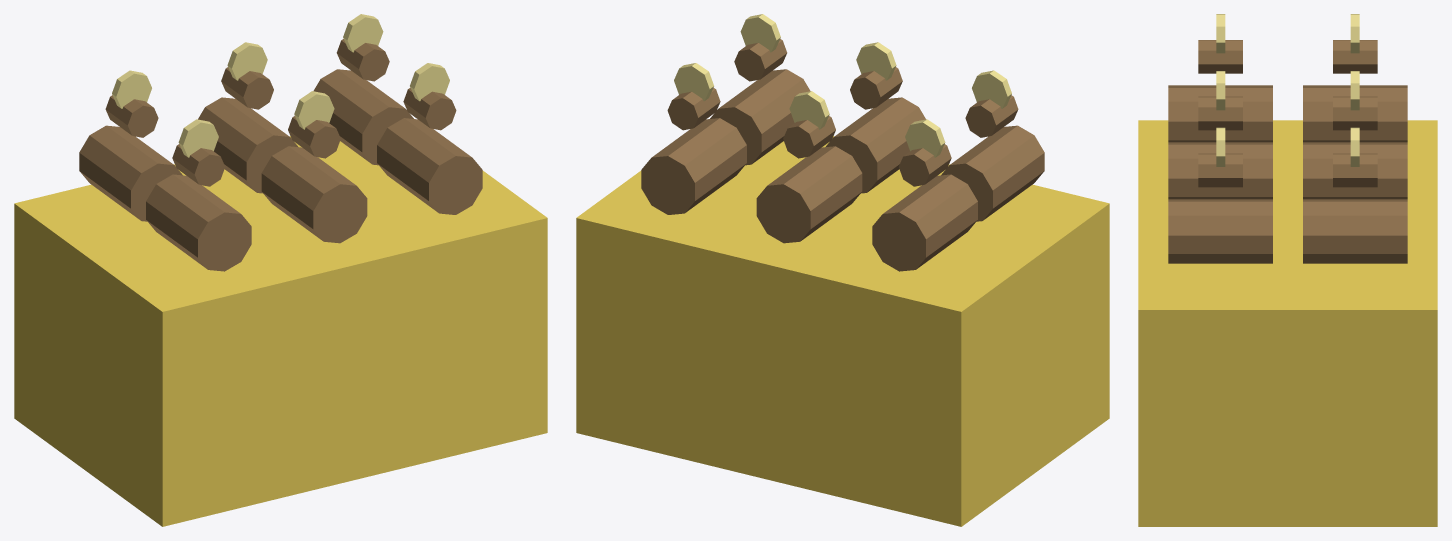
File: bac.glb
3 views of the same model, side by side, from view 1: azimuth 30°, elevation 25°; view 2: azimuth 150°, elevation 25°; view 3: azimuth 270°, elevation 25° (orthographic).
Visible parts, largest first — view 1: Cube, Cylinder.009, Cylinder.003, Cylinder.015, Cylinder, Cylinder.006, Cylinder.012, Cylinder.001, Cylinder.007, Cylinder.010, Cylinder.004, Cylinder.013 (+7 smaller); view 2: Cube, Cylinder.006, Cylinder, Cylinder.012, Cylinder.003, Cylinder.009, Cylinder.015, Cylinder.004, Cylinder.007, Cylinder.010, Cylinder.001, Cylinder.016 (+7 smaller); view 3: Cube, Cylinder.012, Cylinder.015, Cylinder.006, Cylinder.009, Cylinder, Cylinder.003, Cylinder.013, Cylinder.016, Cylinder.007, Cylinder.010, Cylinder.001 (+7 smaller).
Part boxes in pixels (box(x1,y1,x2,y2)): Cube: box(14, 136, 547, 526); Cylinder.009: box(261, 146, 367, 243); Cylinder.003: box(146, 174, 251, 271); Cylinder.015: box(377, 118, 482, 214); Cylinder: box(79, 125, 182, 221); Cylinder.006: box(198, 97, 298, 193); Cylinder.012: box(313, 69, 413, 165); Cylinder.001: box(105, 95, 158, 137); Cylinder.007: box(221, 67, 273, 109); Cylinder.010: box(288, 116, 340, 158); Cylinder.004: box(172, 144, 224, 186); Cylinder.013: box(336, 39, 389, 81); Cube: box(576, 136, 1109, 526); Cylinder.006: box(756, 146, 862, 243); Cylinder: box(872, 174, 977, 271); Cylinder.012: box(641, 118, 746, 214); Cylinder.003: box(941, 125, 1044, 221); Cylinder.009: box(825, 97, 925, 193); Cylinder.015: box(710, 69, 810, 165); Cylinder.004: box(965, 95, 1018, 137); Cylinder.007: box(783, 116, 835, 158); Cylinder.010: box(850, 67, 902, 109); Cylinder.001: box(899, 144, 951, 186); Cylinder.016: box(734, 39, 787, 81); Cube: box(1138, 120, 1437, 526); Cylinder.012: box(1303, 199, 1407, 263); Cylinder.015: box(1168, 199, 1272, 263); Cylinder.006: box(1303, 142, 1407, 199); Cylinder.009: box(1168, 142, 1272, 199); Cylinder: box(1303, 85, 1407, 142); Cylinder.003: box(1168, 85, 1272, 142); Cylinder.013: box(1333, 153, 1377, 187); Cylinder.016: box(1198, 153, 1242, 187); Cylinder.007: box(1333, 96, 1377, 130); Cylinder.010: box(1198, 96, 1242, 130); Cylinder.001: box(1333, 40, 1377, 73).
Bounding box in the file's own units: 0.3 × 0.266 × 0.2.
